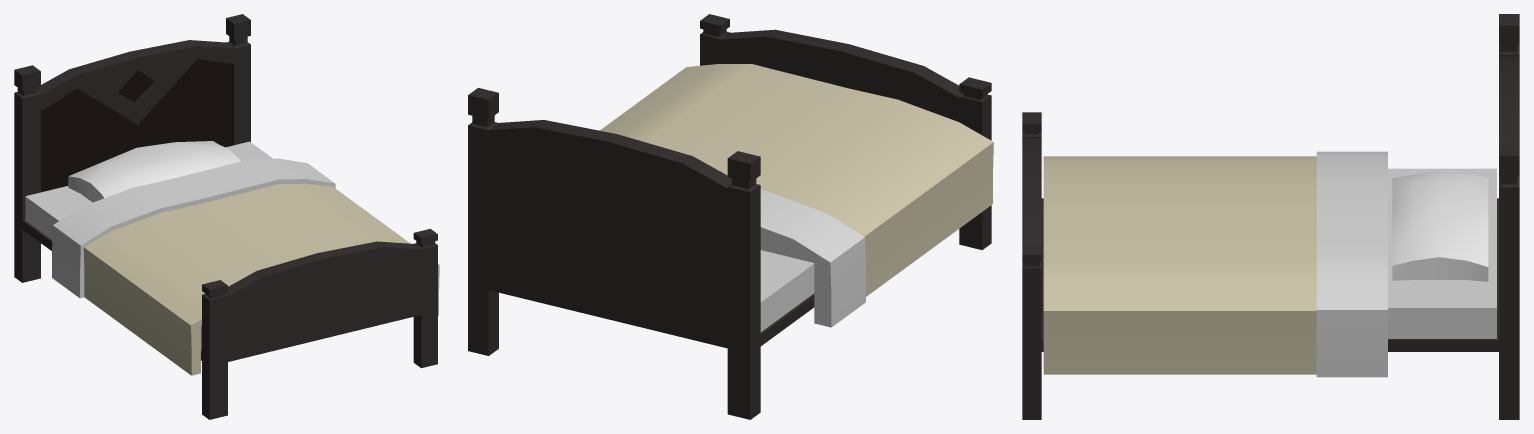
File: BED.fbx
3 renders of one model, left to right at view 1: azimuth 30°, elevation 25°; view 2: azimuth 150°, elevation 25°; view 3: azimuth 270°, elevation 25°, orthographic. The views are drawn at different scales.
Parts seen in each view (by area): view 1: Bed_Posts, Sheets, Pillow, Mattress; view 2: Bed_Posts, Sheets, Mattress; view 3: Sheets, Bed_Posts, Pillow, Mattress.
Boxes of the visible parts, x1,y1,x2,y2 form: Bed_Posts: (14, 14, 437, 419); Sheets: (52, 158, 439, 375); Pillow: (68, 141, 240, 202); Mattress: (25, 141, 272, 349); Bed_Posts: (468, 14, 991, 419); Sheets: (600, 64, 993, 327); Mattress: (760, 250, 814, 332); Sheets: (1043, 151, 1387, 377); Bed_Posts: (1022, 14, 1519, 419); Pillow: (1392, 171, 1488, 281); Mattress: (1388, 168, 1496, 338).
Bounding box in the file's own units: 5.93 × 4.58 × 7.83.
